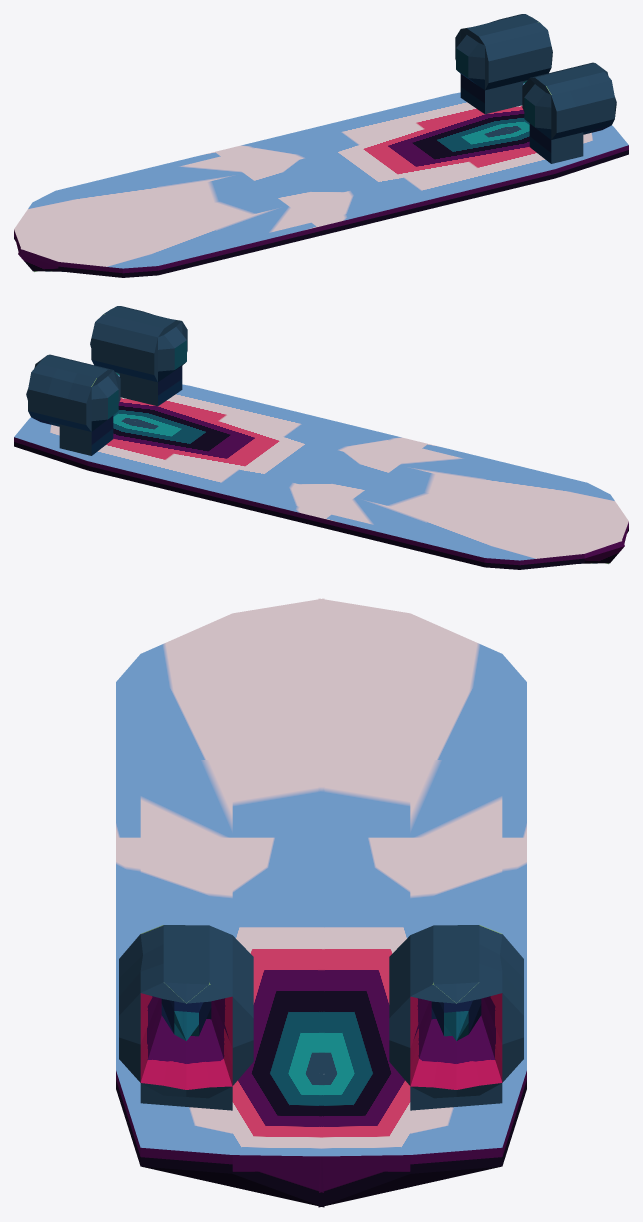
The model's file is Surfbort Rig.fbx.
The picture shows the model from 3 angles, top to bottom: view 1: azimuth 30°, elevation 25°; view 2: azimuth 150°, elevation 25°; view 3: azimuth 270°, elevation 25°; orthographic projection. The views are drawn at different scales.
Parts seen in each view (by area): view 1: Surfbort; view 2: Surfbort; view 3: Surfbort.
Boxes of the visible parts, x1,y1,x2,y2 form: Surfbort: [14, 14, 628, 277]; Surfbort: [14, 306, 628, 569]; Surfbort: [116, 598, 526, 1207].
Bounding box in the file's own units: 360 × 59.5 × 112.
1 material, 1 textured.
